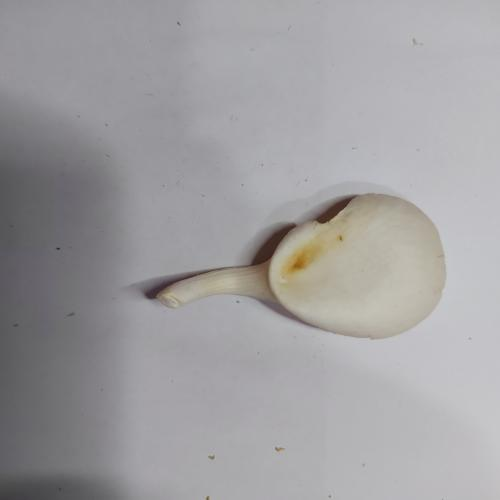Oyster Mushroom: (155, 191, 447, 340)
